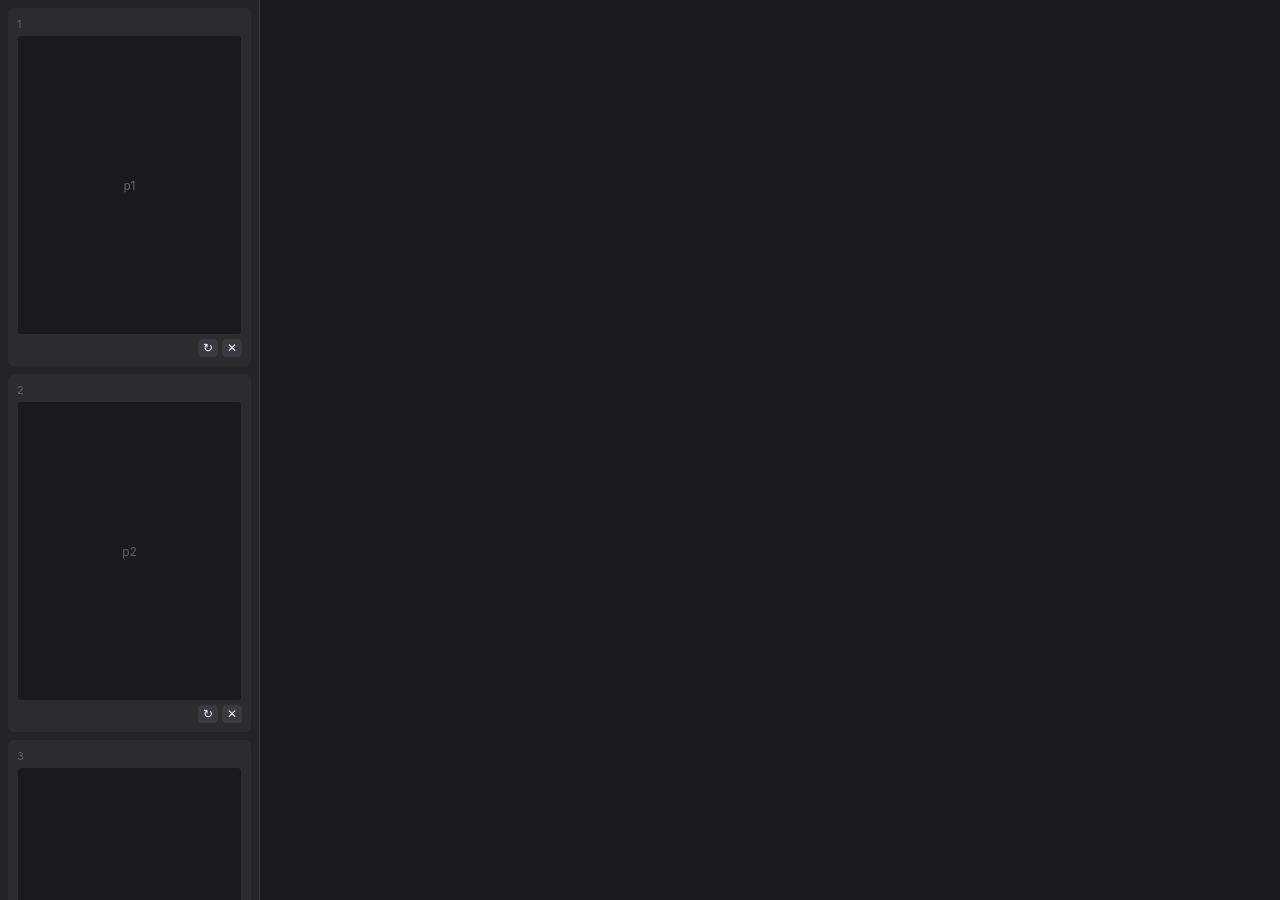
ThumbnailPanel › selection (PR-C, 2026-09-15) › uses singular wording for a one-page selection
Step 1. Click the list item named "Page 1" → (130, 187), box [8,8,251,366]
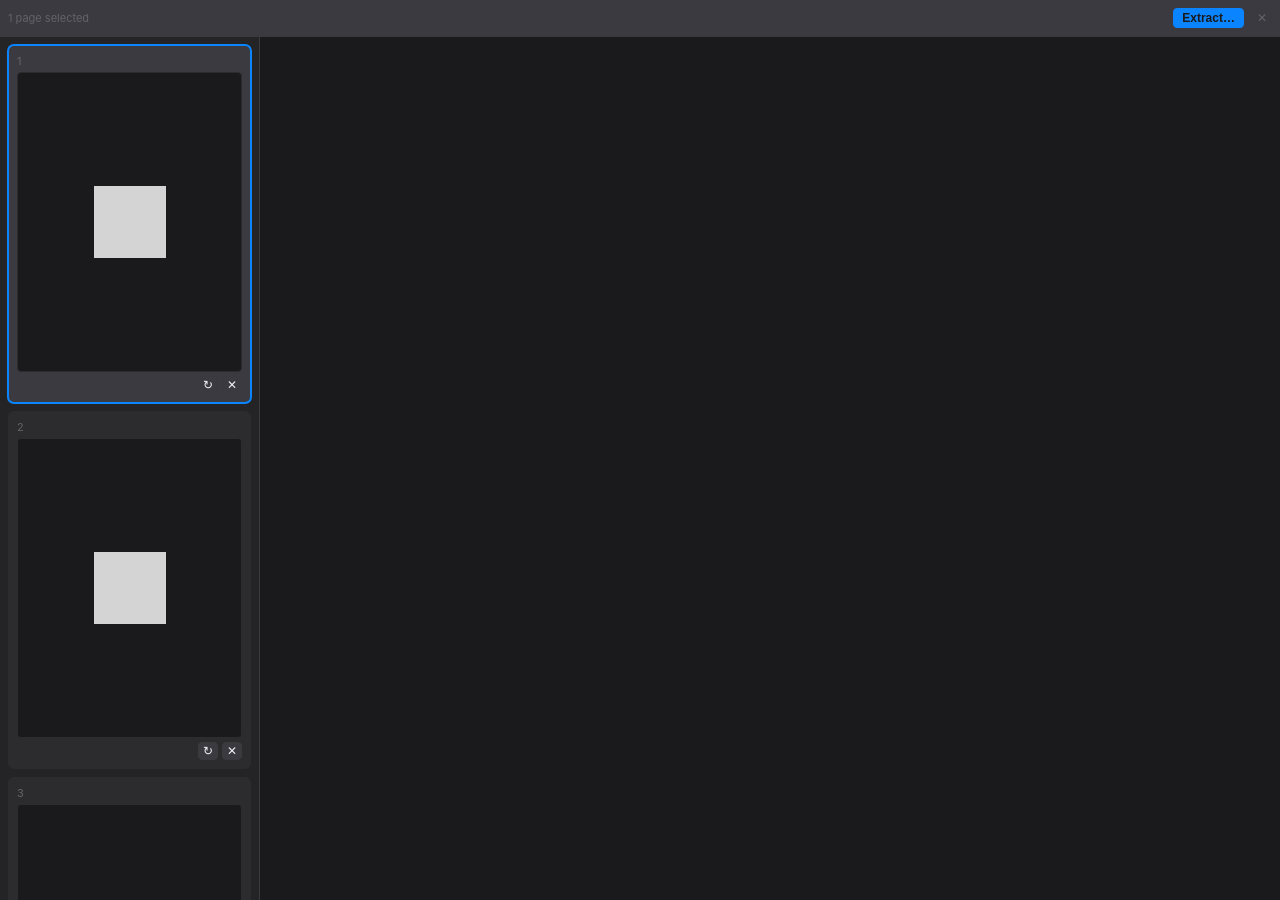
Now the text "1 page selected" is shown, box [8,11,89,25]
